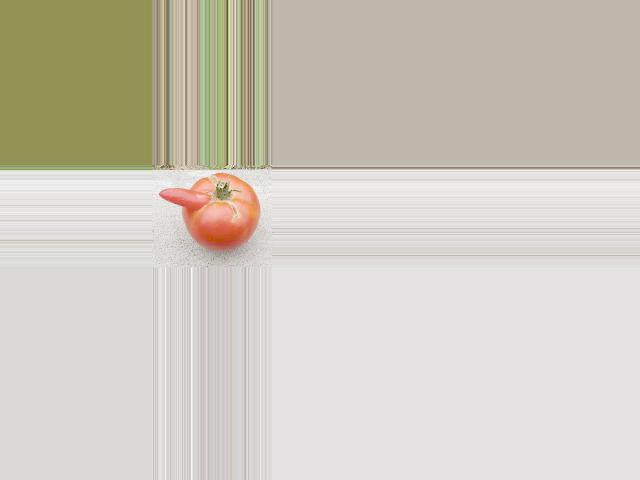tomato: (182, 173, 261, 249)
